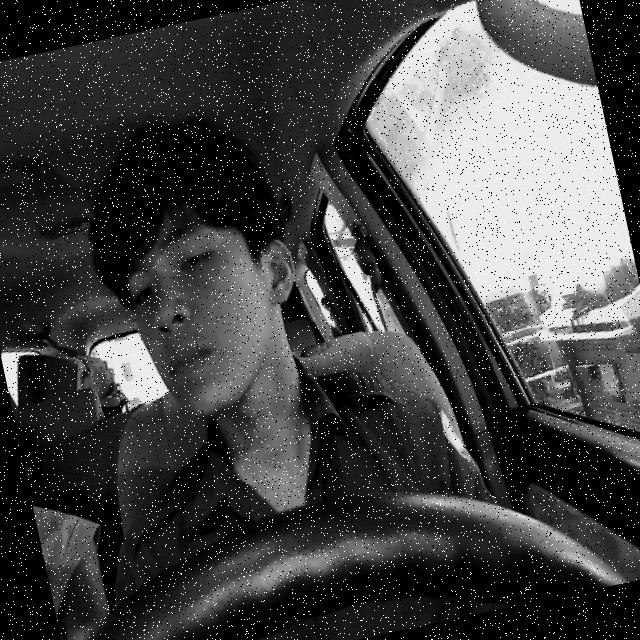seeing_left: (106, 175, 324, 432)
